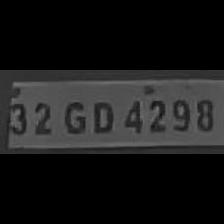2: (28, 97, 56, 136), (144, 95, 166, 133)
3: (2, 96, 28, 138)
4: (117, 96, 143, 134)
8: (190, 94, 216, 132)
9: (167, 95, 192, 131)
D: (86, 97, 114, 133)
G: (58, 97, 86, 135)
